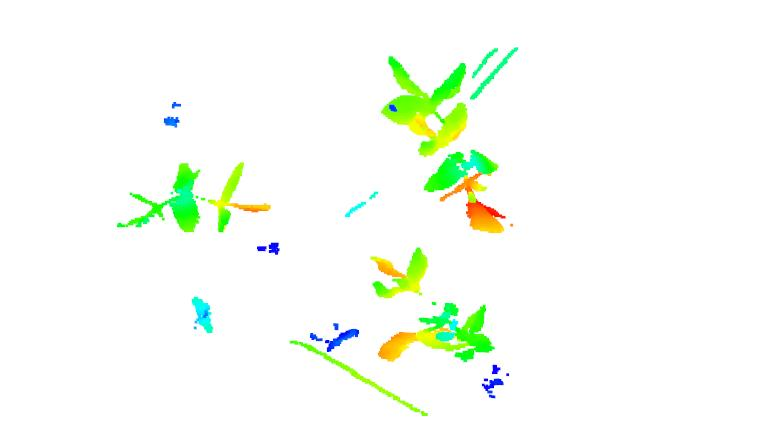mungbean: (374, 48, 512, 234), (367, 249, 494, 363), (116, 161, 282, 236)
